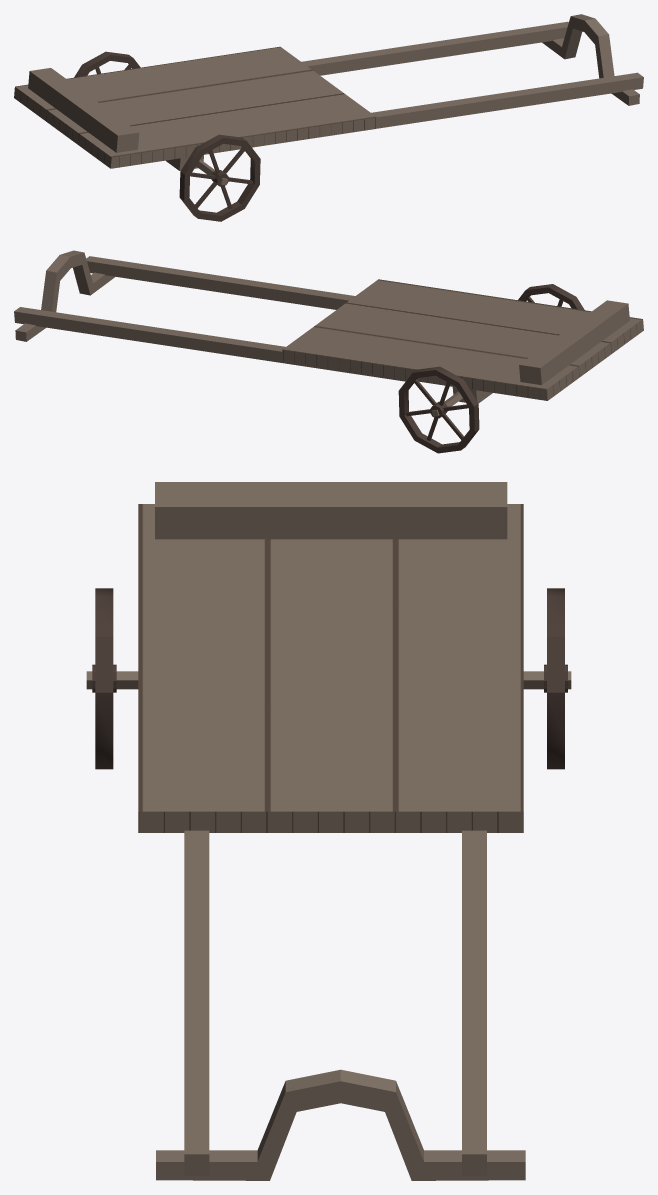
File: Yük Arabası.fbx
3 views of the same model, one above another, from view 1: azimuth 30°, elevation 25°; view 2: azimuth 150°, elevation 25°; view 3: azimuth 270°, elevation 25° (orthographic). The views are drawn at different scales.
Visible parts, largest first — view 1: Model; view 2: Model; view 3: Model.
Boxes of the visible parts, x1,y1,x2,y2 form: Model: (14, 14, 643, 221); Model: (14, 250, 643, 453); Model: (86, 482, 571, 1180).
Size of the model in its own units: 163 by 27.62 by 62.99.
